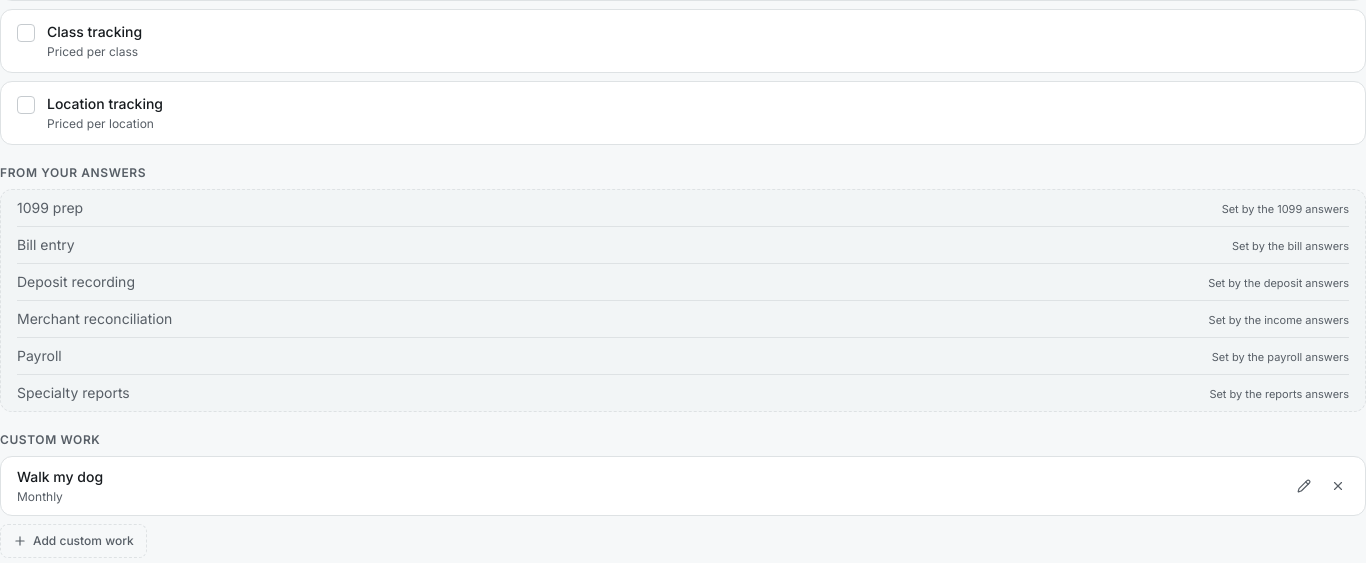
Test: L2/H7: custom_addon_editable + industry tag (10_06) › cancel leaves the rule untouched
The width and height of the screenshot is (1366, 563).
(page scrolled)
Step 1. Click the button with test id "custom-addon-edit-Walk my dog" → (1304, 486), box 1293,474 -> 1315,496
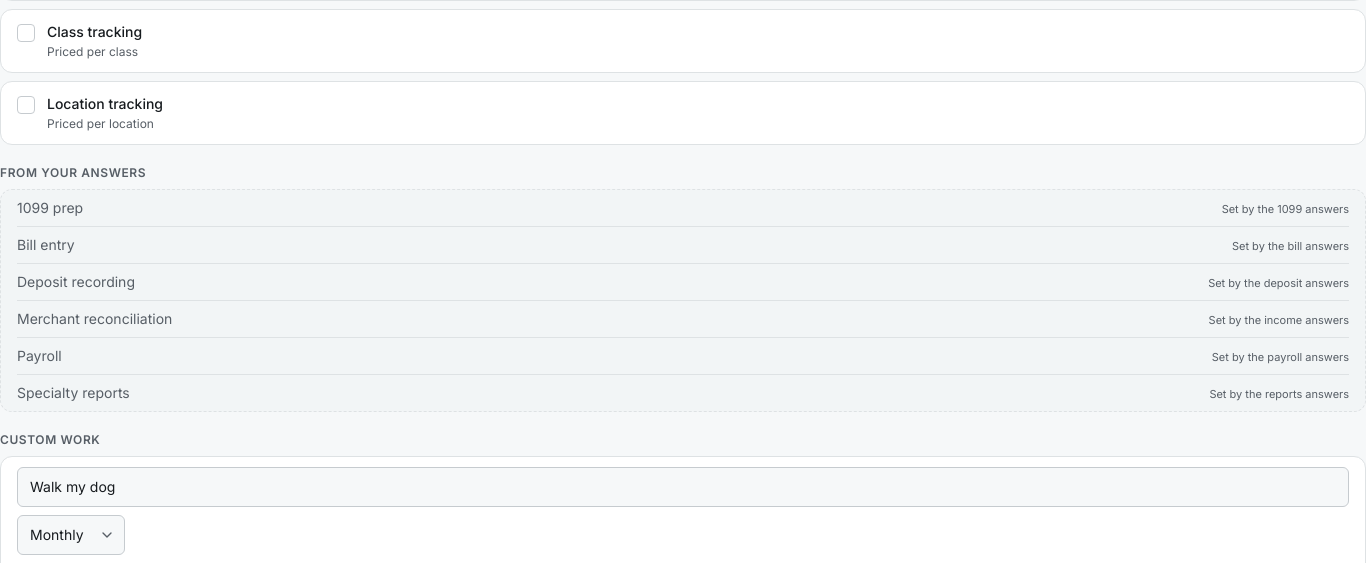
Step 2. Replace the text in the field named "Name" with "Changed mind" → (683, 486), box 17,466 -> 1349,506
(page scrolled)
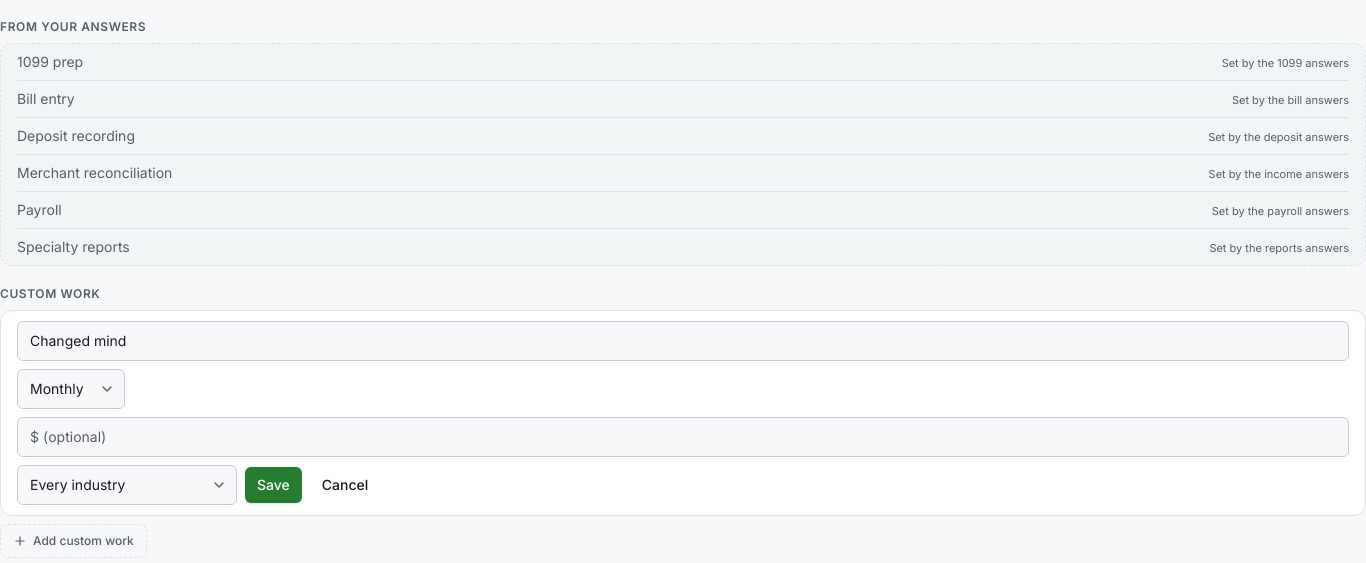
Step 3. Click the button "Cancel" → (345, 484), box 310,466 -> 380,502
(page scrolled)
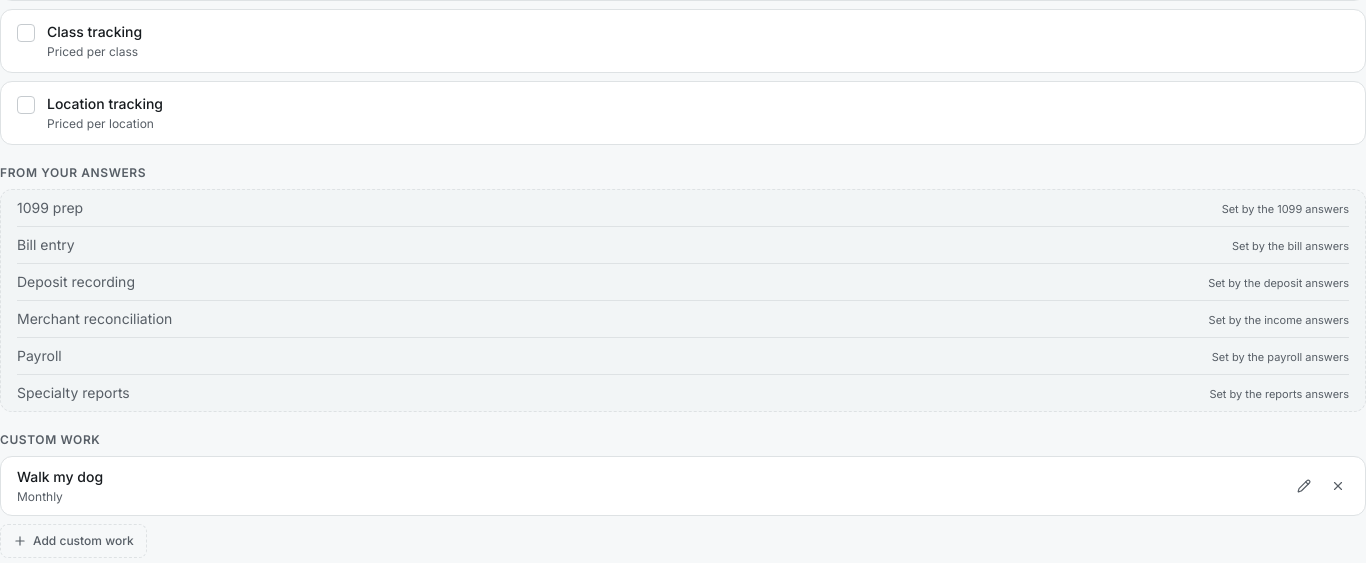
expect the text "Walk my dog" is shown: met, box 17,468 -> 103,484
